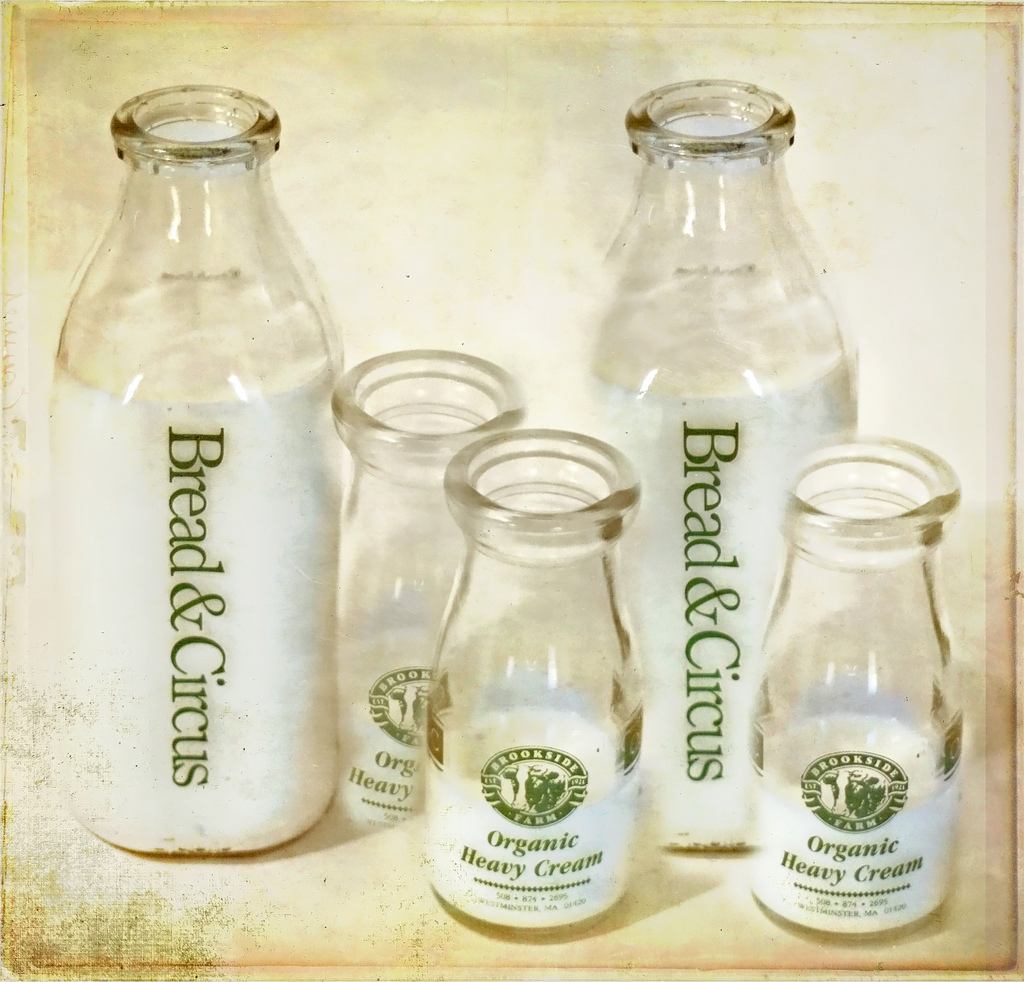glass of milk: (53, 271, 351, 846), (562, 330, 872, 851), (439, 661, 634, 922), (736, 663, 922, 917)
